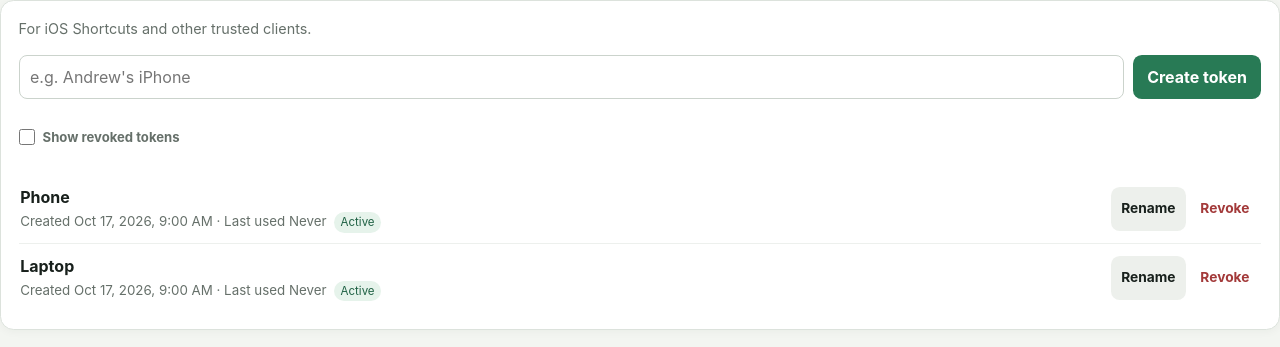
Test: removes a token from the list after revocation and keeps active tokens
Click the button with class "danger" in the row of "Phone" at (1225, 209), box top-left (1190, 187), bottom-right (1260, 231)
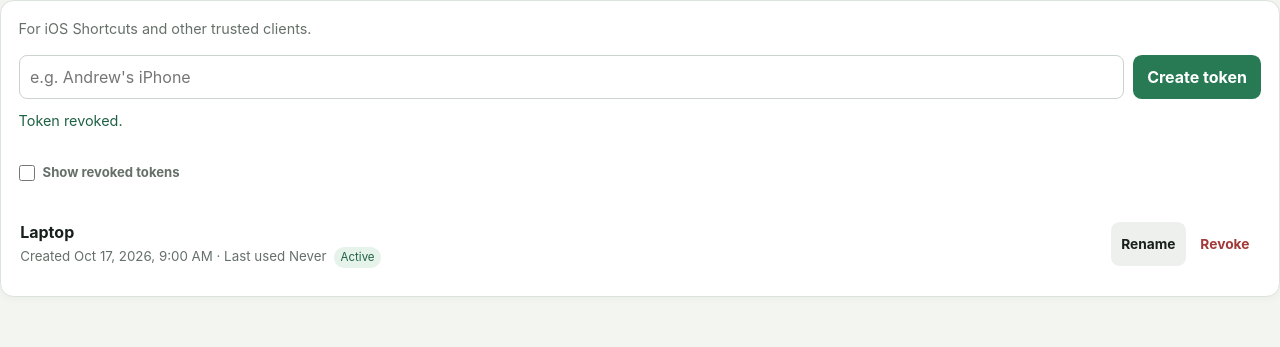
Expected: the button with aria-label "Rename Laptop" is shown, top-left (1111, 222), bottom-right (1186, 266)
Result: the message reads "Token revoked." at top-left (19, 112), bottom-right (123, 129)
